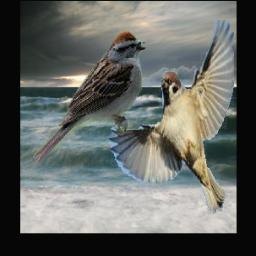Sparrow: (107, 15, 235, 214), (33, 28, 148, 164)
